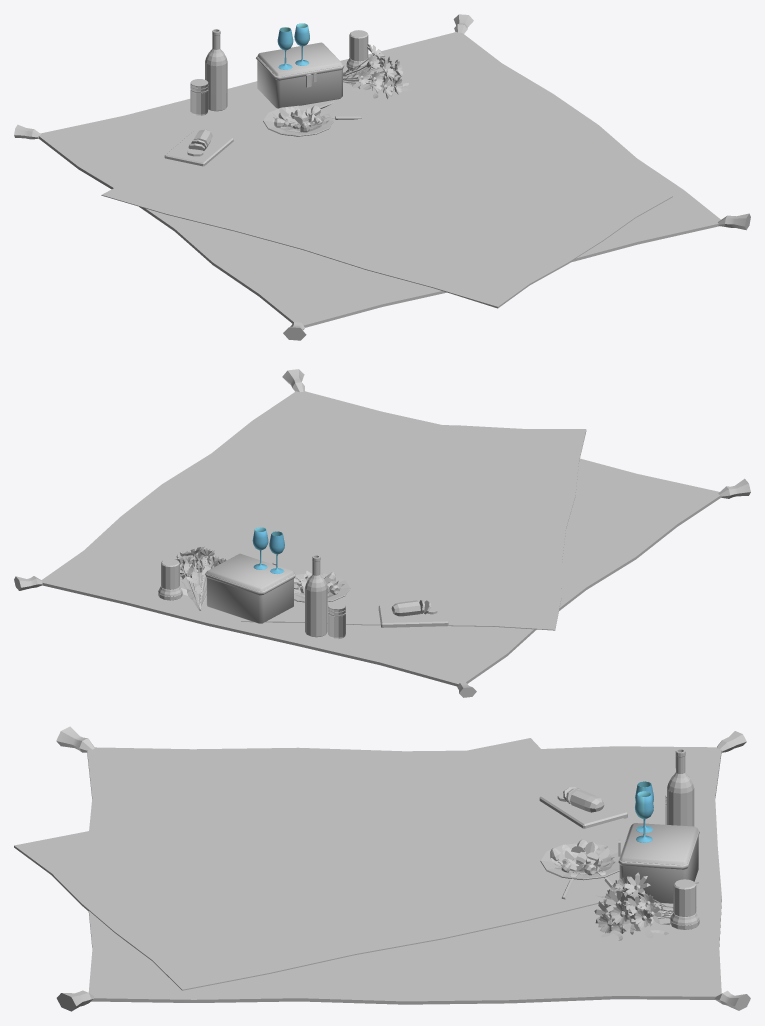
The model's file is CBS_Fall_Mat.FBX.
3 views of the same model, one above another, from view 1: azimuth 30°, elevation 25°; view 2: azimuth 150°, elevation 25°; view 3: azimuth 270°, elevation 25° (orthographic). The views are drawn at different scales.
Parts seen in each view (by area): view 1: CBS_Fall_Mat, prp_cup_02; view 2: CBS_Fall_Mat, prp_cup_02; view 3: CBS_Fall_Mat, prp_cup_02.
Boxes of the visible parts, x1,y1,x2,y2 form: CBS_Fall_Mat: (14, 14, 750, 340); prp_cup_02: (277, 23, 309, 69); CBS_Fall_Mat: (14, 369, 750, 697); prp_cup_02: (252, 527, 284, 573); CBS_Fall_Mat: (14, 726, 750, 1011); prp_cup_02: (635, 781, 653, 842).
Size of the model in its own units: 204 by 33.59 by 230.
